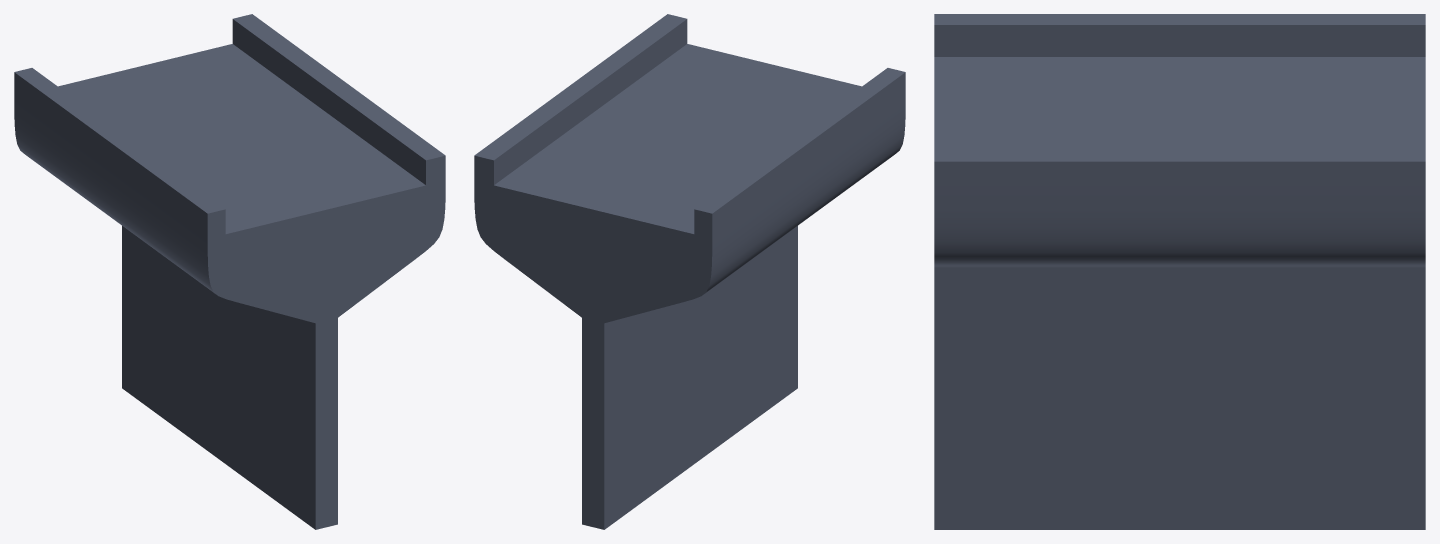
The model's file is conveyer_straight.glb.
3 views of the same model, side by side, from view 1: azimuth 30°, elevation 25°; view 2: azimuth 150°, elevation 25°; view 3: azimuth 270°, elevation 25° (orthographic). The views are drawn at different scales.
Visible parts, largest first — view 1: conveyor-straight; view 2: conveyor-straight; view 3: conveyor-straight.
Boxes of the visible parts, x1=… form: conveyor-straight: x1=14, y1=14, x2=445, y2=529; conveyor-straight: x1=474, y1=14, x2=905, y2=529; conveyor-straight: x1=934, y1=14, x2=1425, y2=529.
Size of the model in its own units: 1.19 by 1.63 by 1.67.
